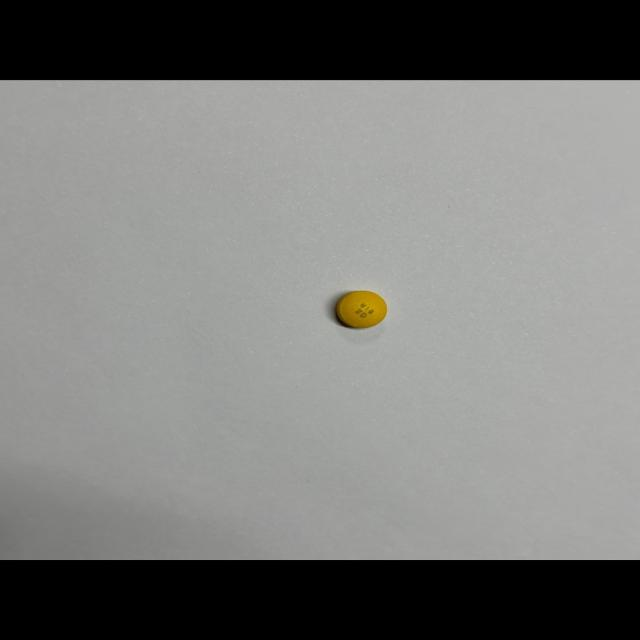Piller: (337, 291, 387, 328)
